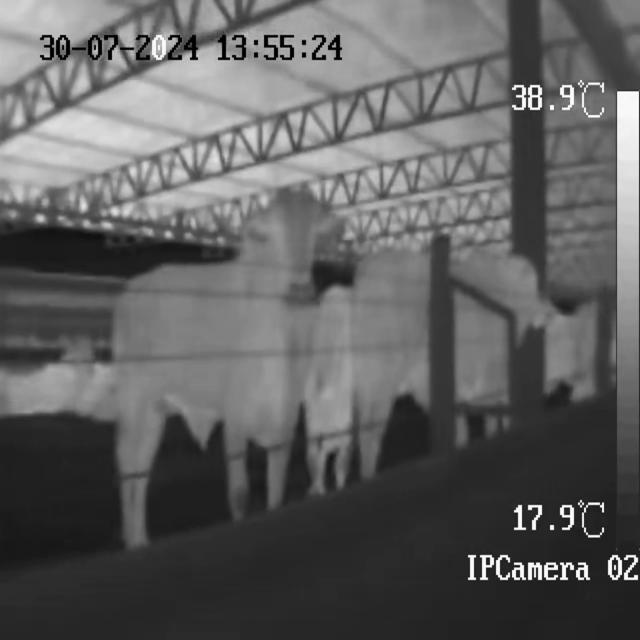eye: (272, 215, 288, 244)
head: (266, 185, 320, 306)
